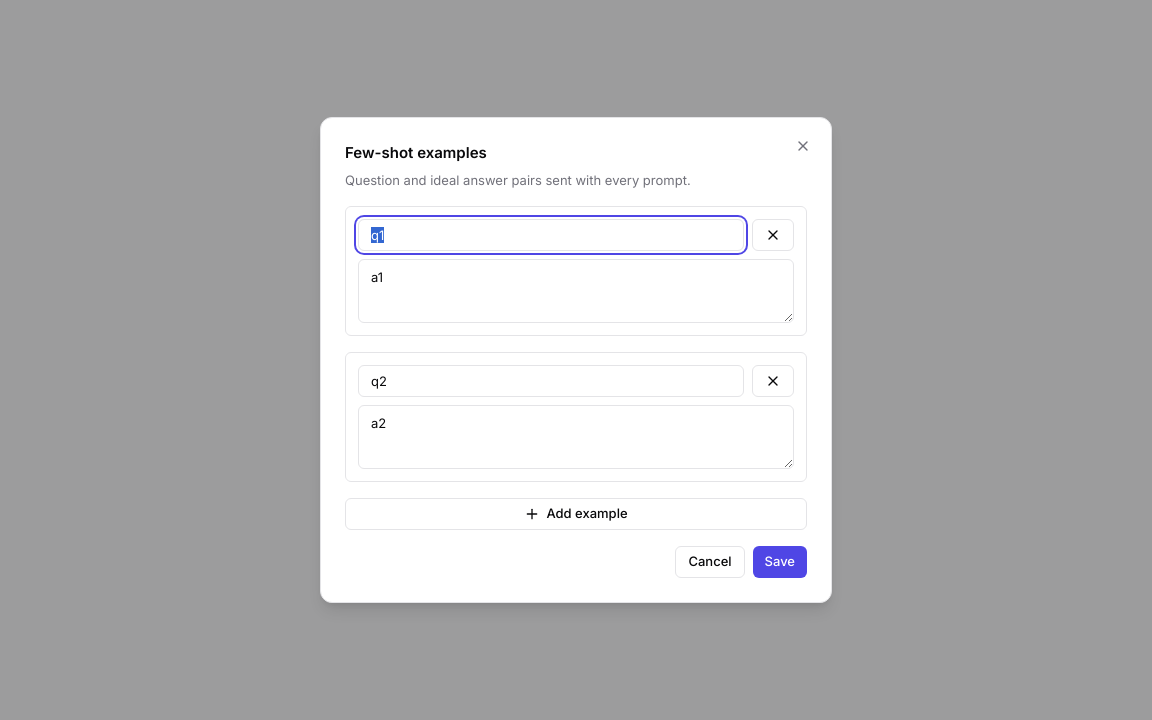
Scenario: FewShotDialog › removes an example
What coordinates should you click on to do the following:
click the button named "Remove example 1"
I would click on:
 (773, 235)
Its box is [752, 219, 794, 251].
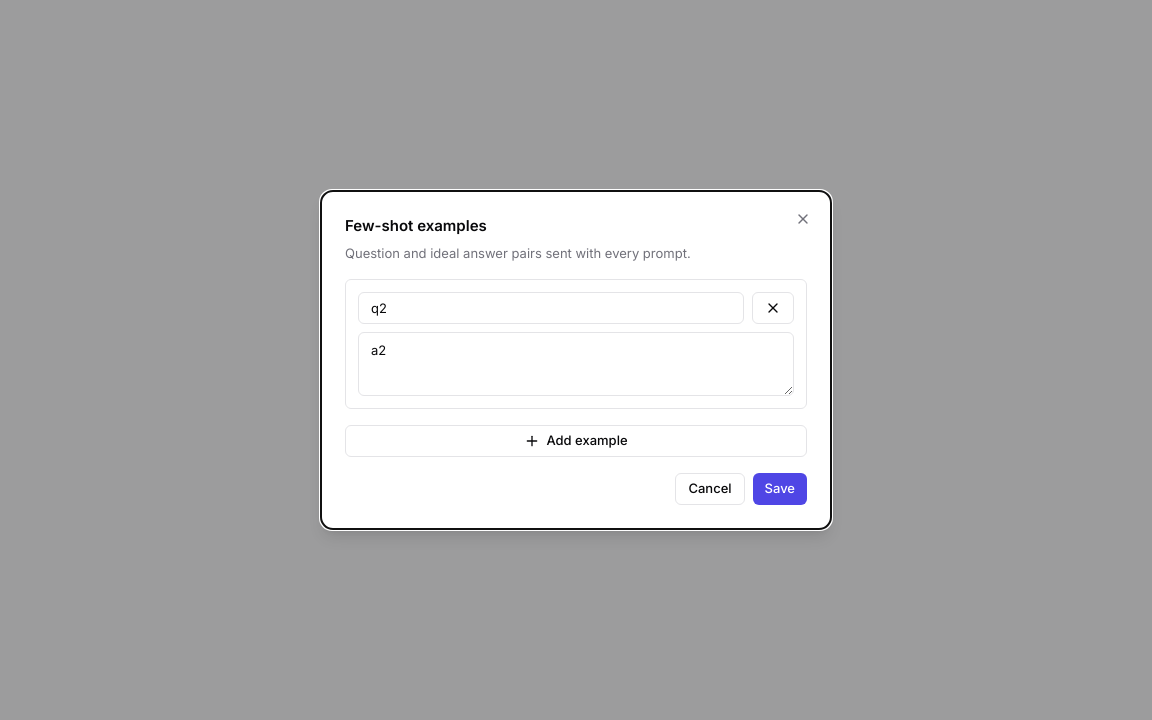
Expected: the field named "Question 1" holds "q2", [358, 292, 744, 324]
Now the number of fields named "Question 1" is 1, box [358, 292, 744, 324]
